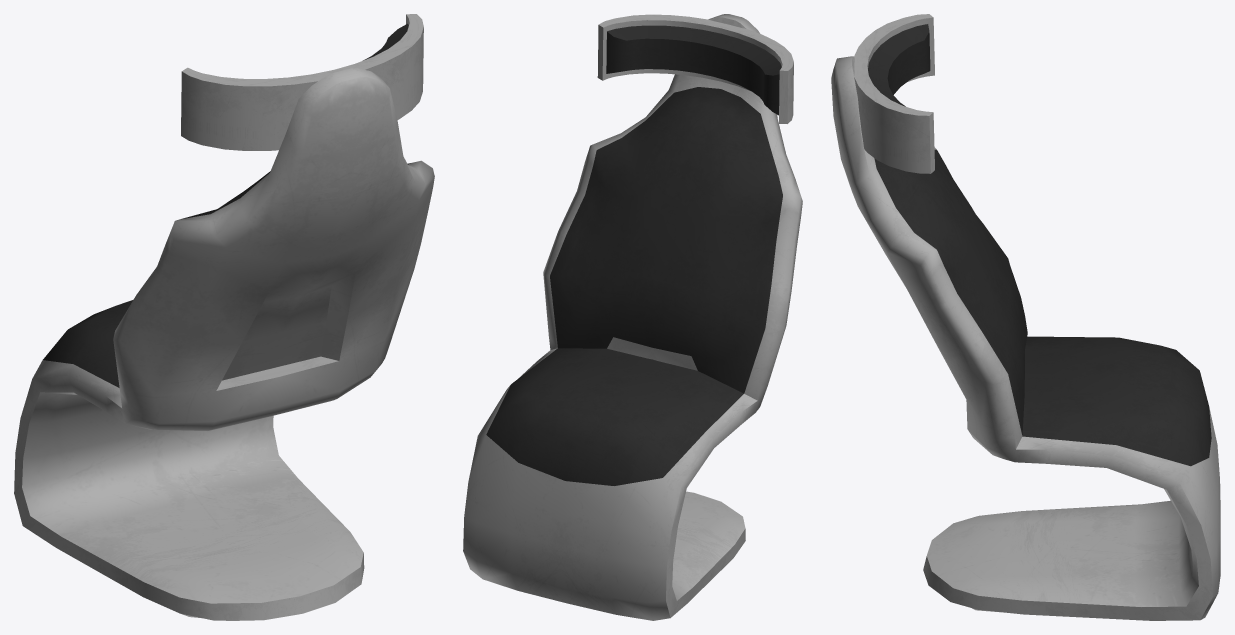
Rendered from Prop_Chair.gltf.
3 renders of one model, left to right at view 1: azimuth 30°, elevation 25°; view 2: azimuth 150°, elevation 25°; view 3: azimuth 270°, elevation 25°, orthographic. The views are drawn at different scales.
Visible parts, largest first — view 1: Prop_Chair; view 2: Prop_Chair; view 3: Prop_Chair.
Boxes of the visible parts, x1,y1,x2,y2 form: Prop_Chair: (14,14,434,620); Prop_Chair: (463,14,802,620); Prop_Chair: (831,14,1220,620).
Size of the model in its own units: 0.8807 by 1.64 by 1.12.
2 materials, 2 textured.
